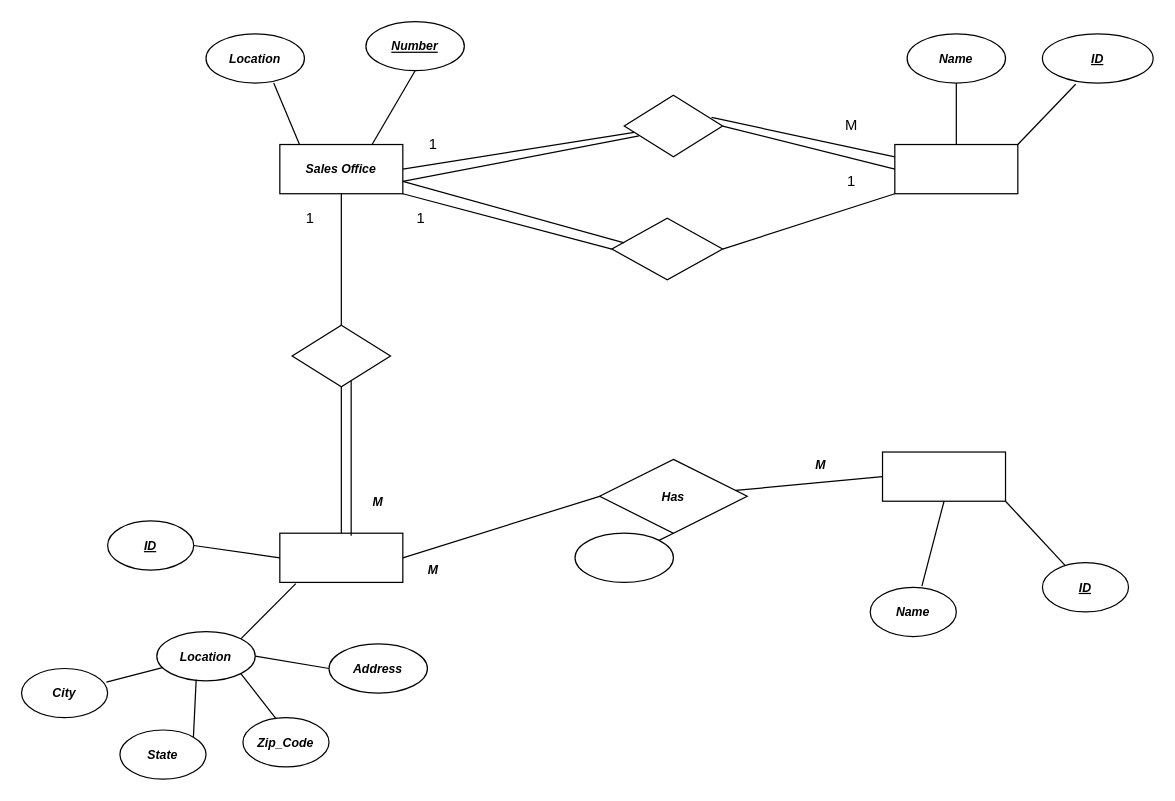
The diagram is 1175 pixels wide and 801 high, and some of its shapes have lost their labels. The centre of each missing label's shape, as x and y in pixels:
"Assigned" belongs at (x=673, y=125).
"Employee" belongs at (x=956, y=168).
"Listed" belongs at (x=341, y=355).
"Manage" belongs at (x=667, y=248).
"Owner" belongs at (x=943, y=476).
"percent" belongs at (x=623, y=557).
"Prosperity" belongs at (x=341, y=557).
